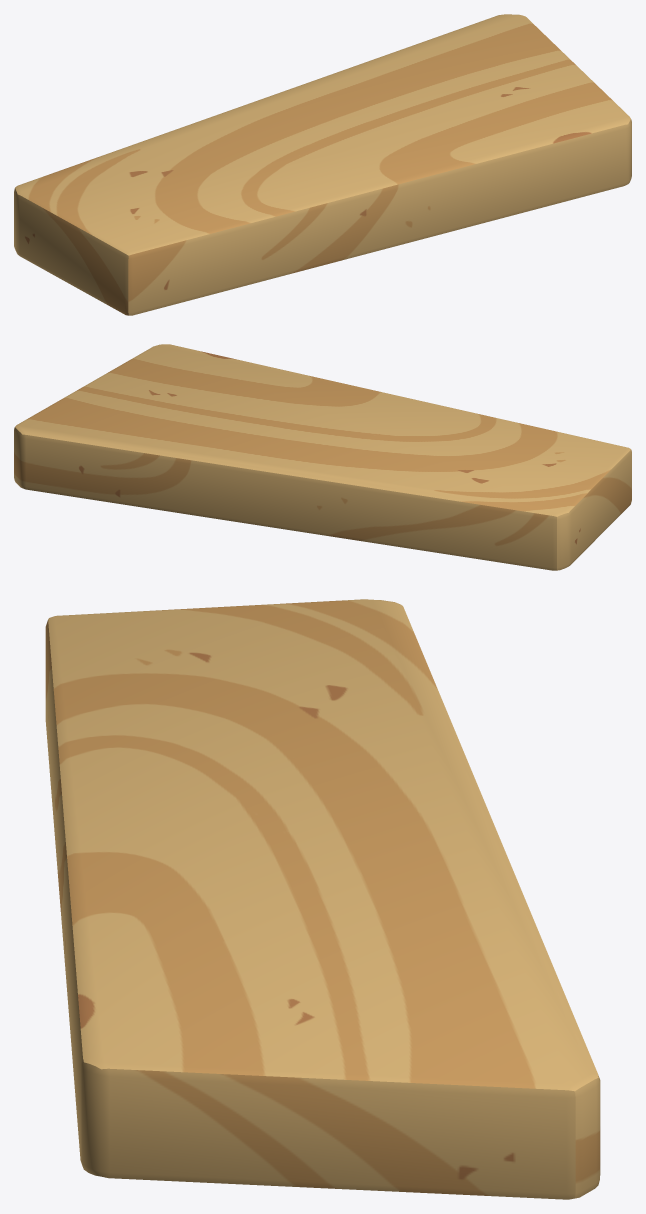
The model's file is Prop_WoodBridge1.fbx.
3 views of the same model, one above another, from view 1: azimuth 30°, elevation 25°; view 2: azimuth 150°, elevation 25°; view 3: azimuth 270°, elevation 25° (orthographic). The views are drawn at different scales.
Parts seen in each view (by area): view 1: WoodBridge1; view 2: WoodBridge1; view 3: WoodBridge1.
Boxes of the visible parts, x1,y1,x2,y2 form: WoodBridge1: (14,14,631,315); WoodBridge1: (14,344,631,570); WoodBridge1: (45,599,600,1199).
Bounding box in the file's own units: 158 × 16.99 × 74.87.
